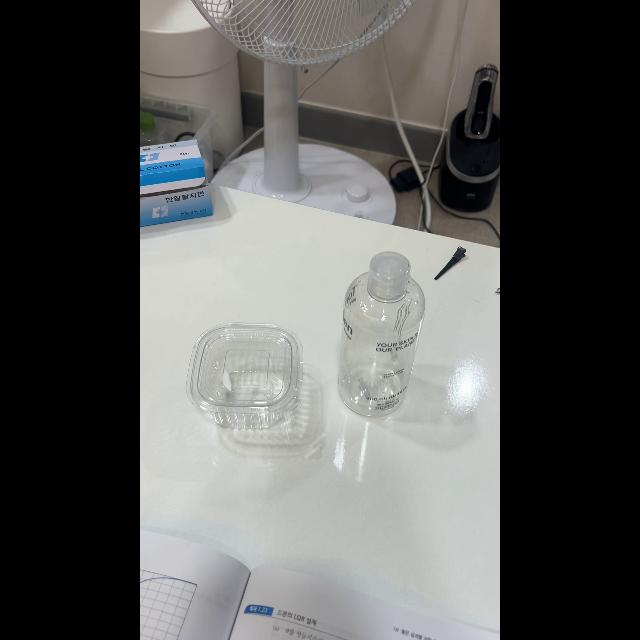clean: (337, 256, 427, 414), (187, 324, 303, 430)
